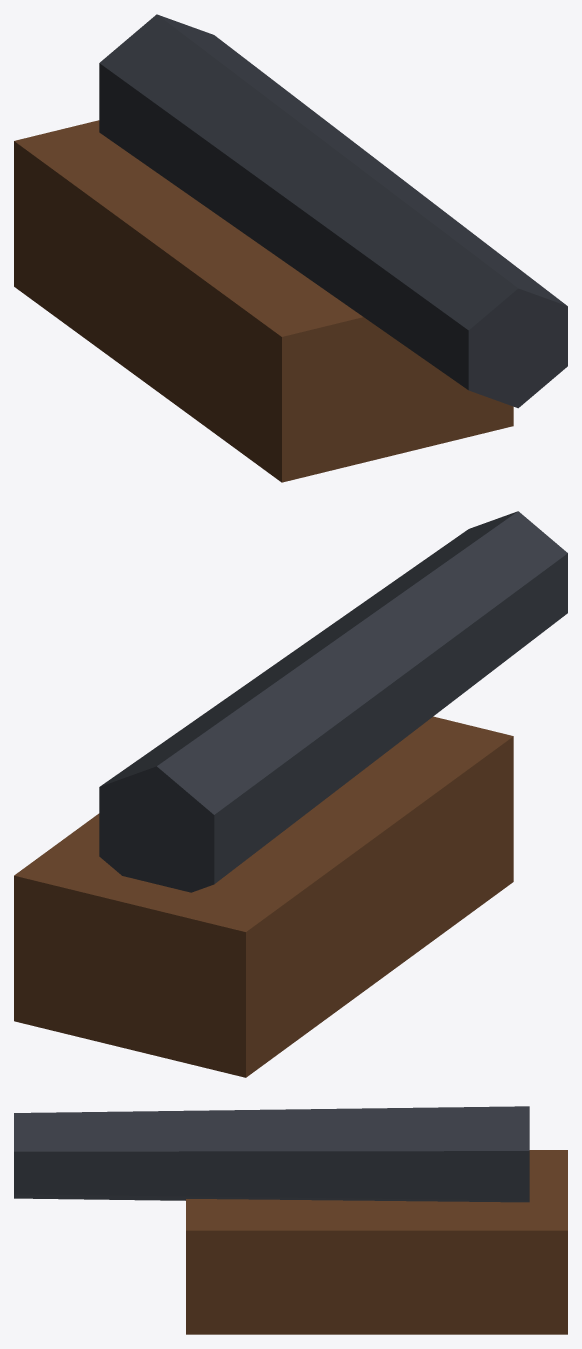
Rendered from SM_Prop_Cannon_LQ.glb.
The picture shows the model from 3 angles, top to bottom: view 1: azimuth 30°, elevation 25°; view 2: azimuth 150°, elevation 25°; view 3: azimuth 270°, elevation 25°; orthographic projection. The views are drawn at different scales.
Visible parts, largest first — view 1: SM_Prop_Cannon_LQ; view 2: SM_Prop_Cannon_LQ; view 3: SM_Prop_Cannon_LQ.
Part boxes in pixels (bbox=[...]): SM_Prop_Cannon_LQ: bbox=[14, 14, 567, 482]; SM_Prop_Cannon_LQ: bbox=[14, 511, 567, 1077]; SM_Prop_Cannon_LQ: bbox=[14, 1106, 567, 1334].
Bounding box in the file's own units: 0.5 × 0.543 × 1.45.
1 material, 1 textured.
